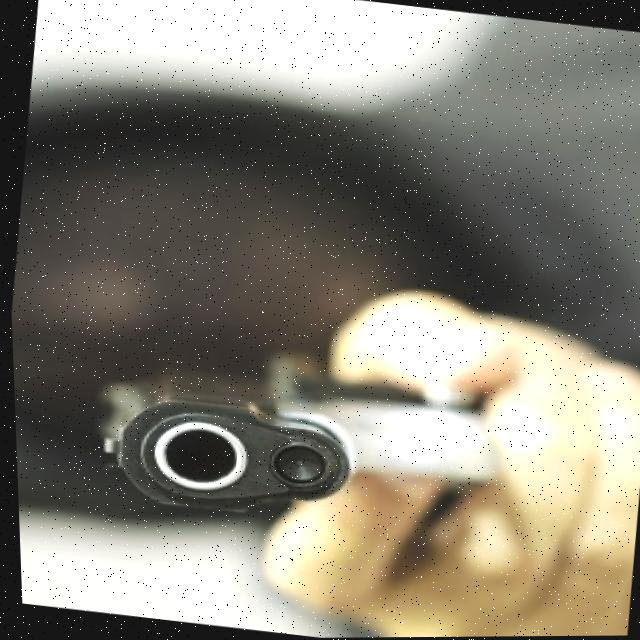pistol: (62, 355, 498, 546)
